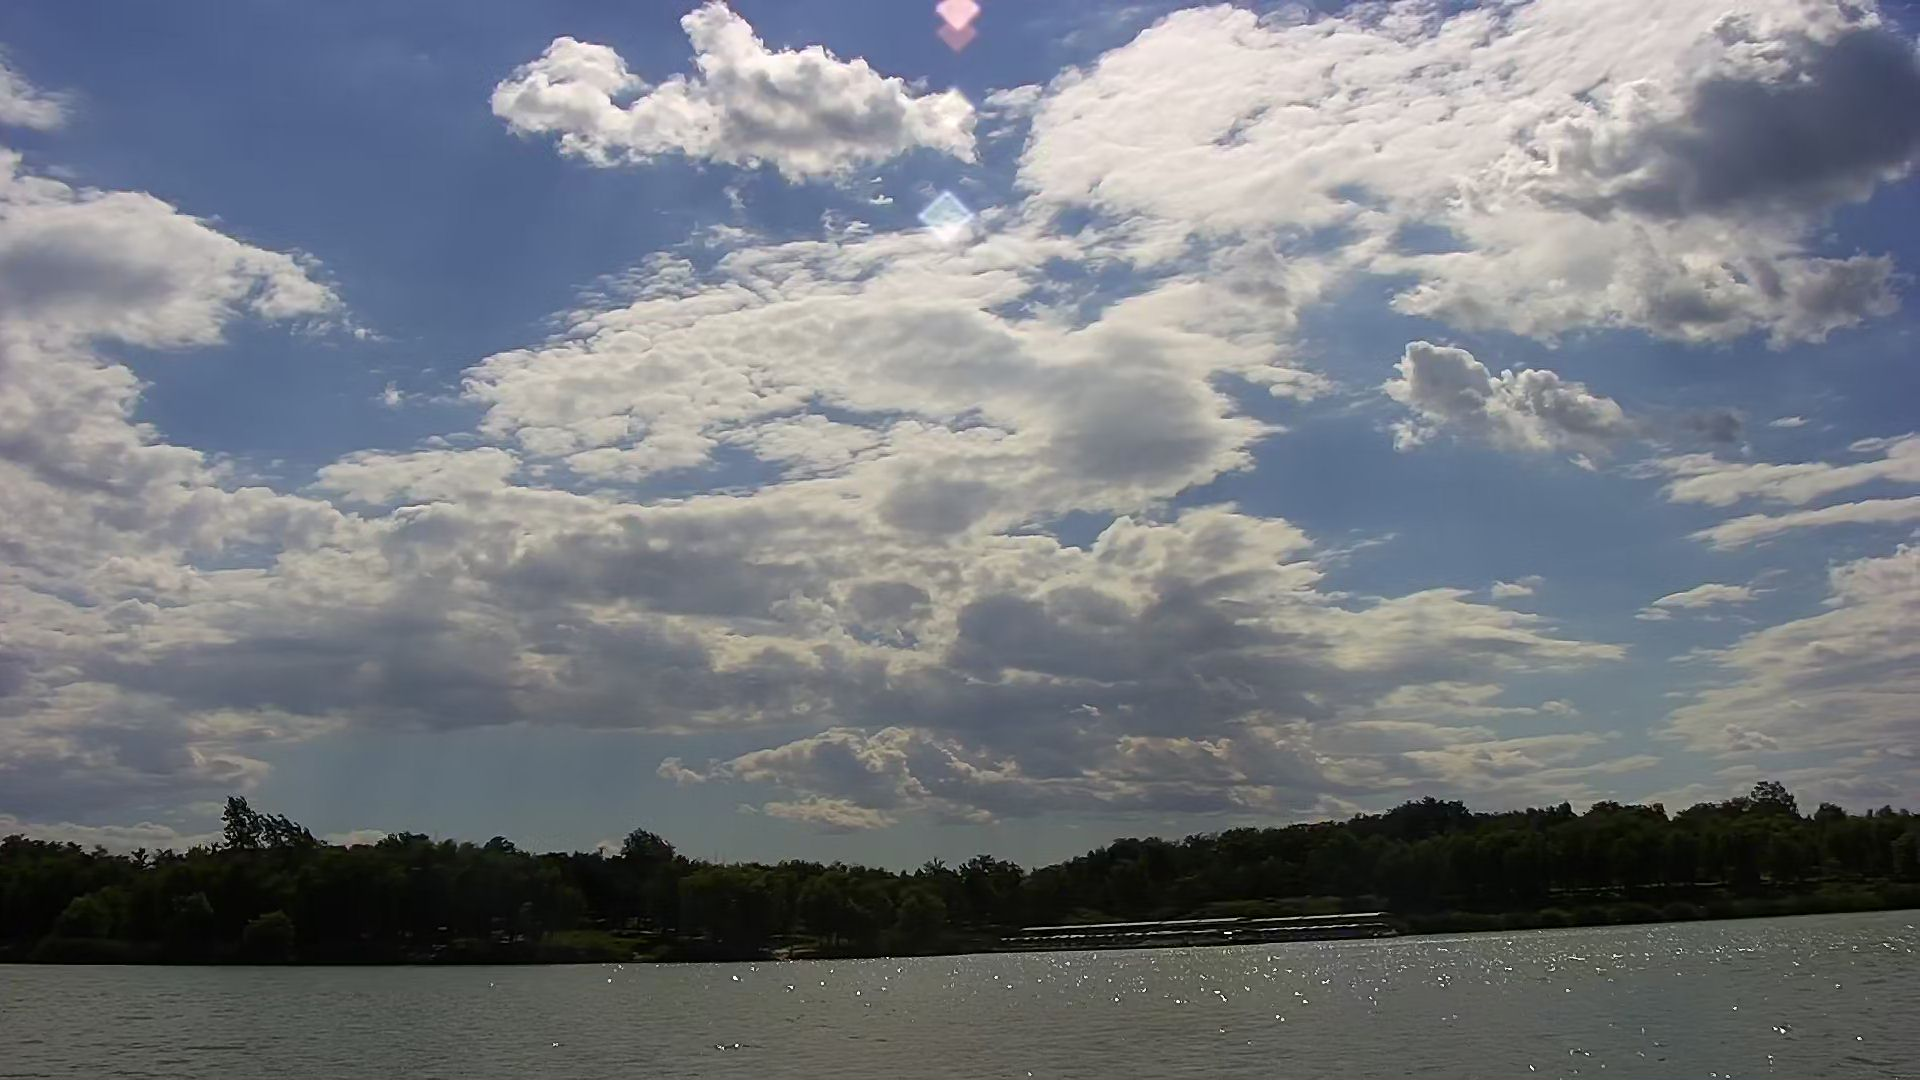harbor: (982, 887, 1422, 964)
